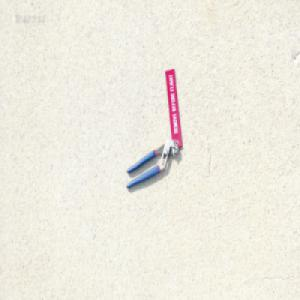Label: (163, 66, 182, 148)
Pliers: (125, 138, 179, 190)
